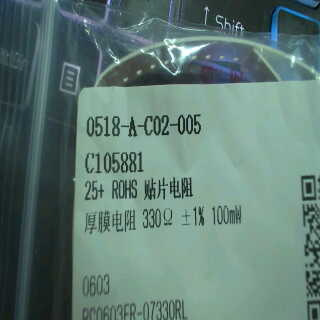330R: (140, 205, 178, 229)
